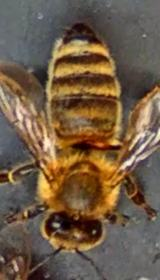varroa_mite: (80, 128, 112, 154)
